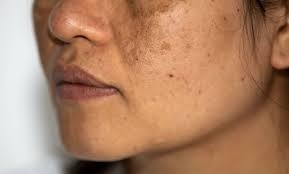Melasma: (116, 0, 177, 66)
